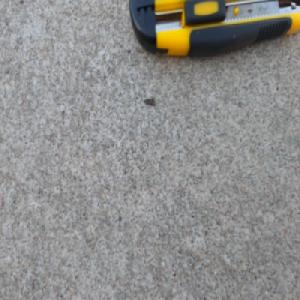Cutter: (125, 0, 300, 63)
